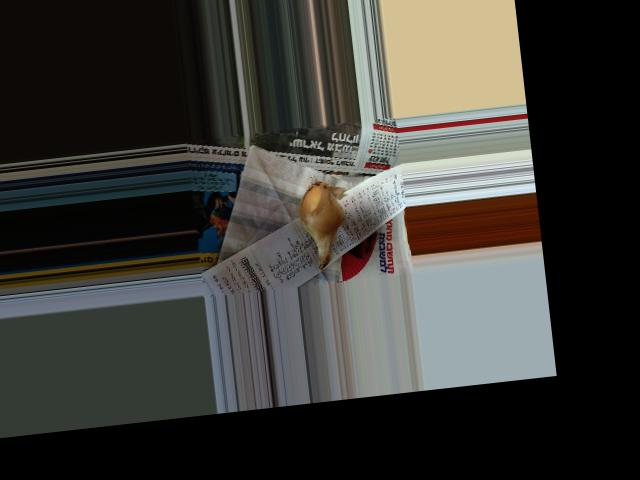onion: (294, 183, 344, 248)
